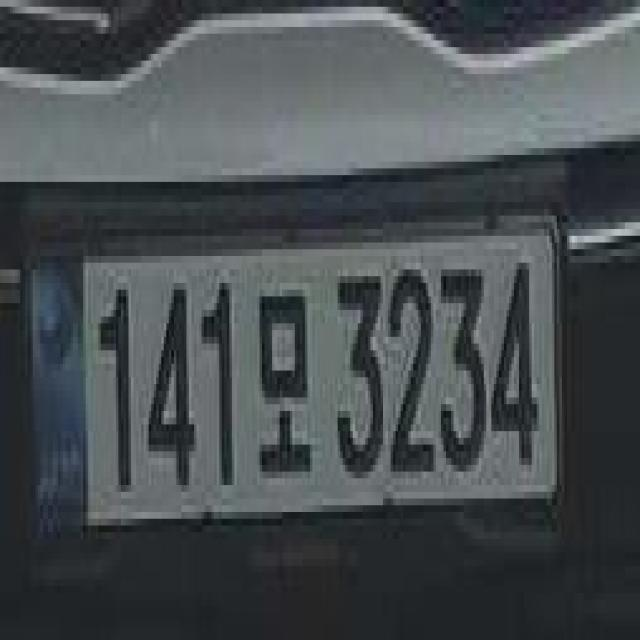illegal_plate: (24, 207, 572, 550)
